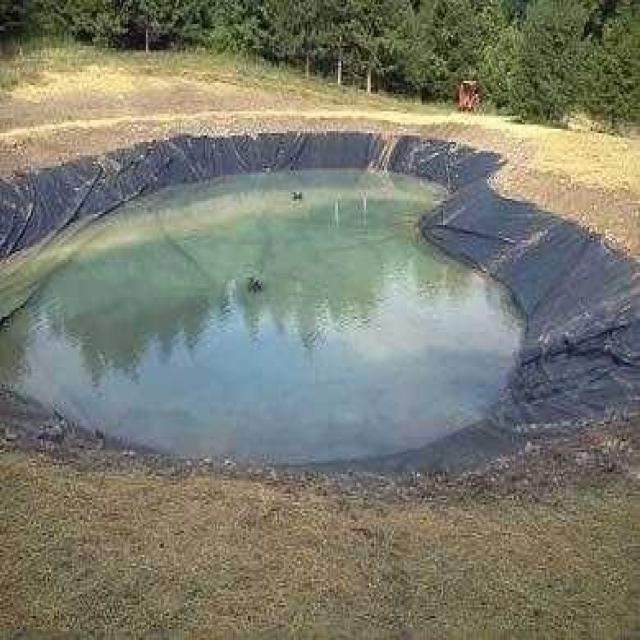Ponds: (2, 172, 524, 465)
